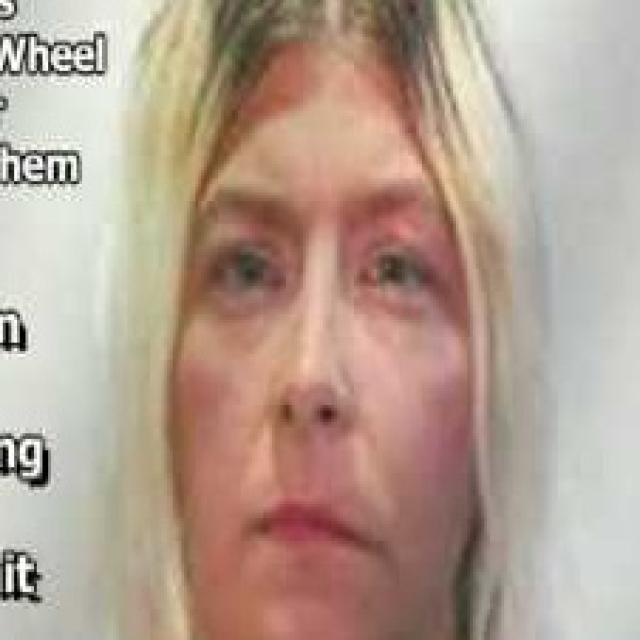Depress: (167, 43, 475, 637)
